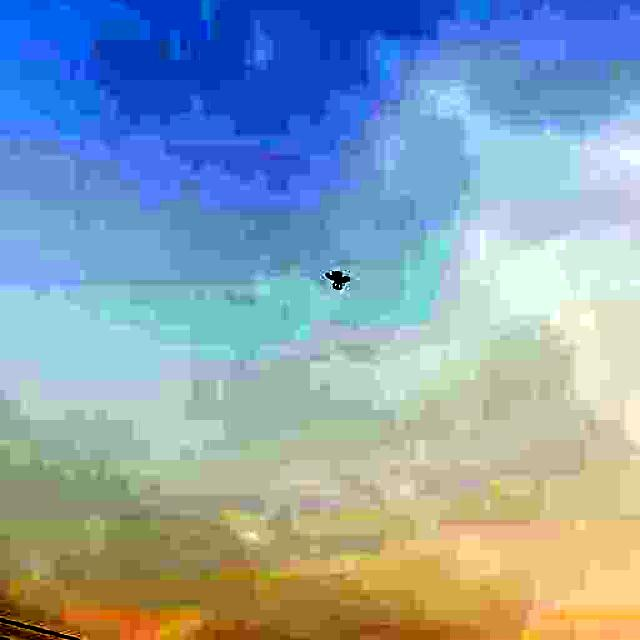bird: (324, 268, 351, 295)
